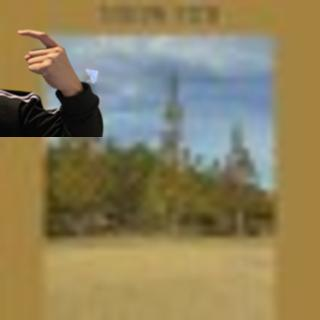WHY: (14, 26, 81, 93)
